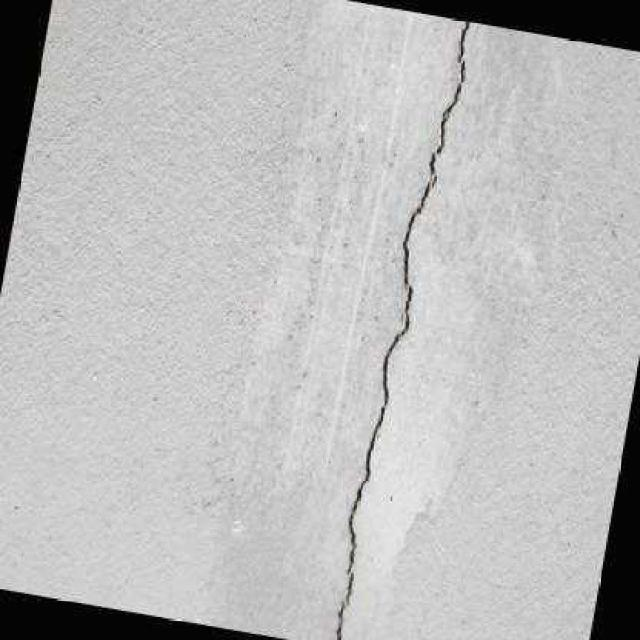D00: (335, 21, 469, 640)
